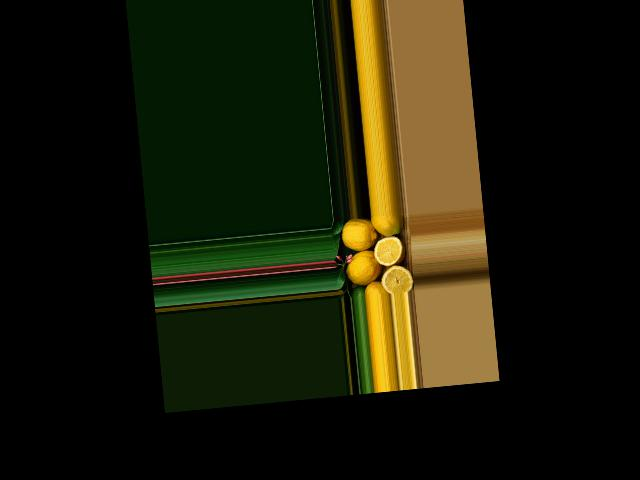lemon: (367, 213, 404, 242)
